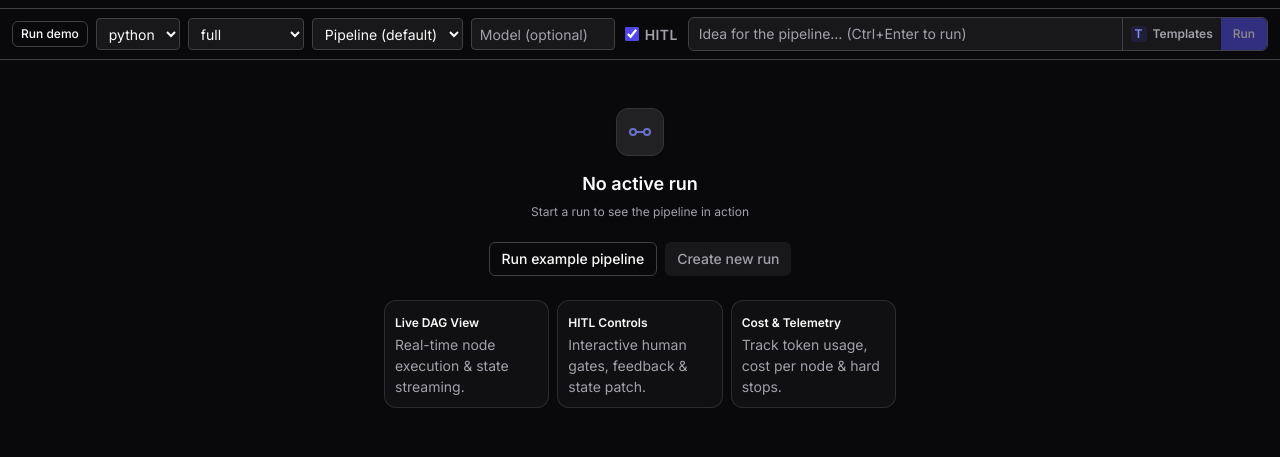
Test case: RunsWorkspace › shows empty state and run demo creates a tab
Expected: the heading "No active run" is shown, [582,170,698,198]
Click the button "Run demo": point(50, 34) [12,21,88,47]
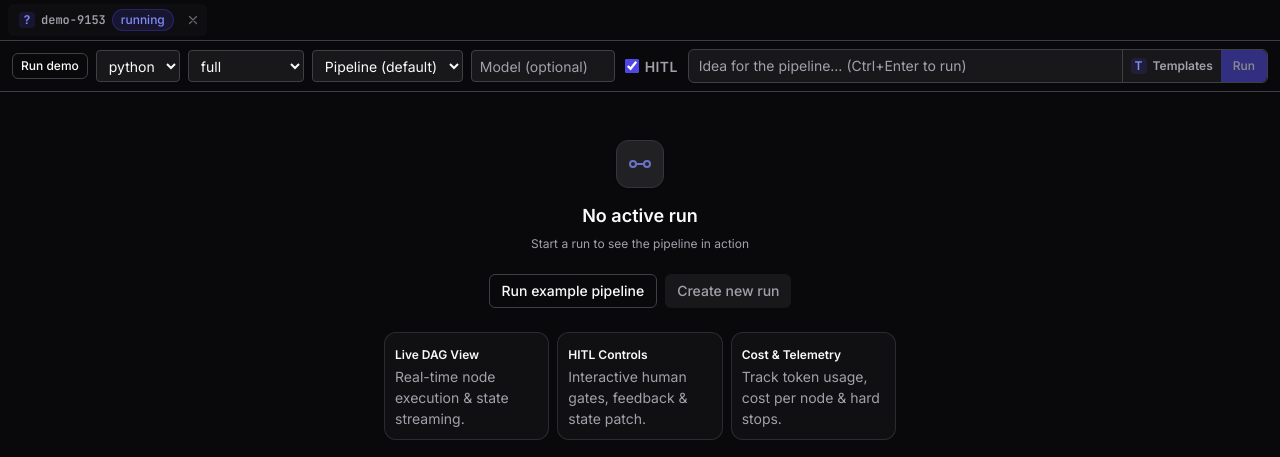
Result: the number of tabs is 1 at [9,5,184,35]
